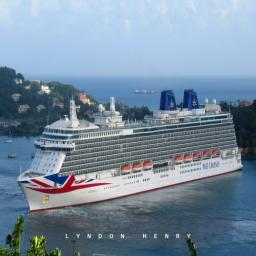cruises: (16, 85, 246, 217)
